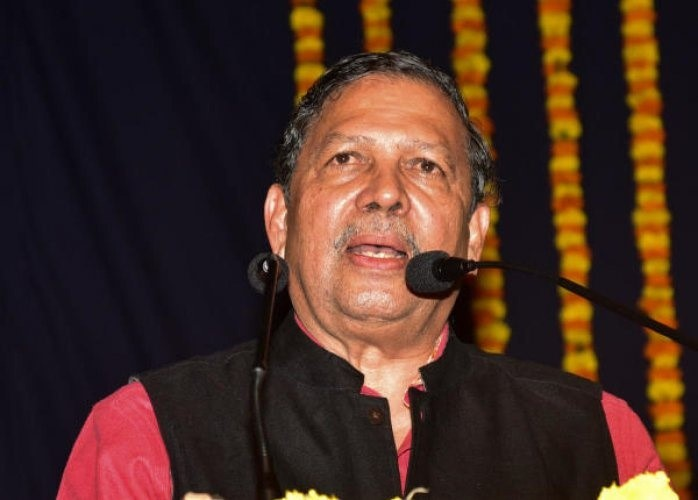face_no_mask: (264, 53, 489, 324)
